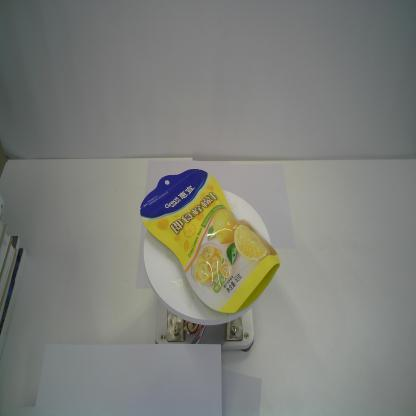Dried Fruit: (140, 168, 281, 314)
